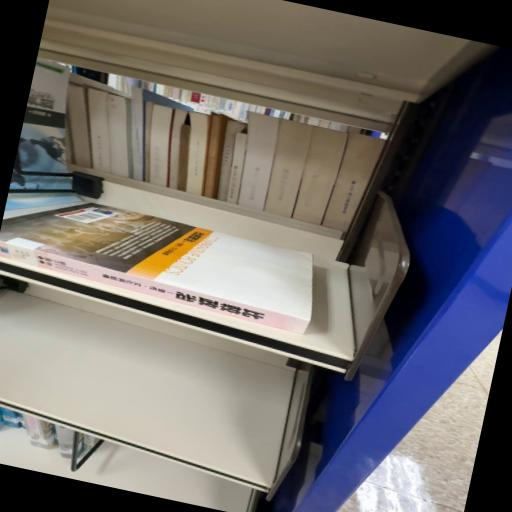flat: (1, 204, 313, 334)
